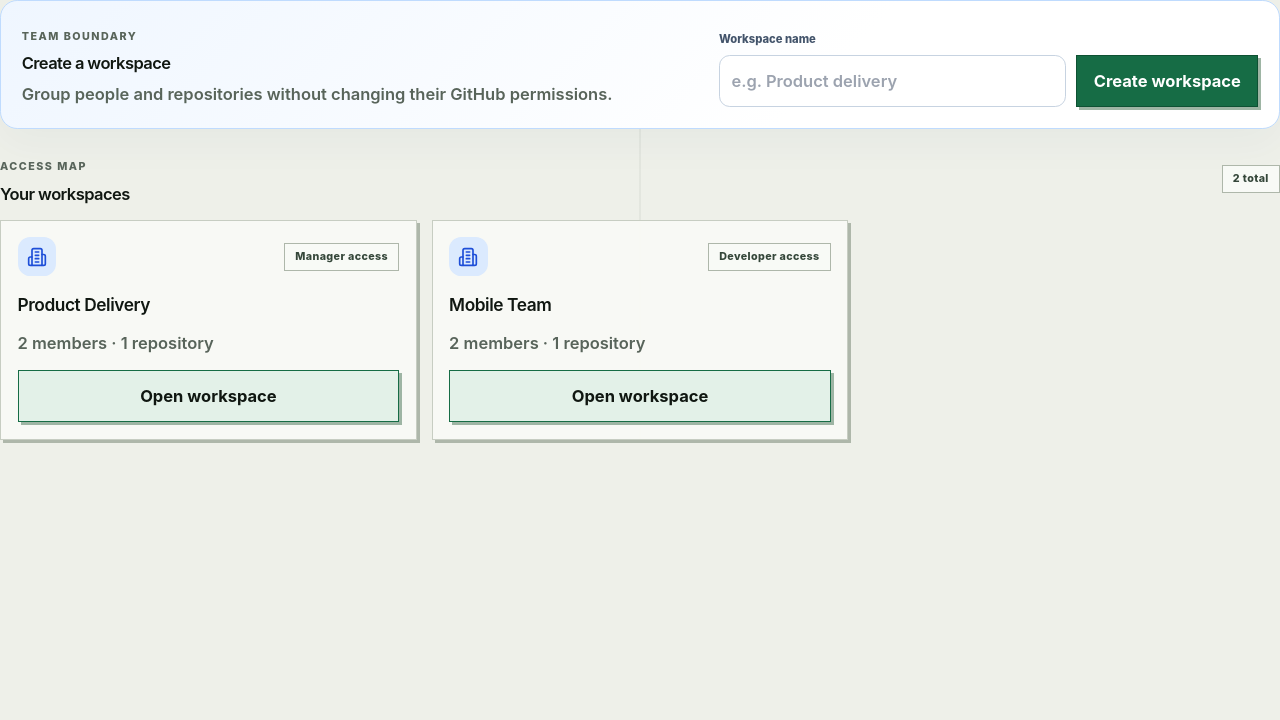
Test: workspace experience › keeps developer workspaces read-only
This screenshot has width=1280, height=720.
Step 1. Click the button with aria-label "Open Mobile Team" → (640, 396), box x1=449 y1=370 x2=831 y2=422
(page scrolled)
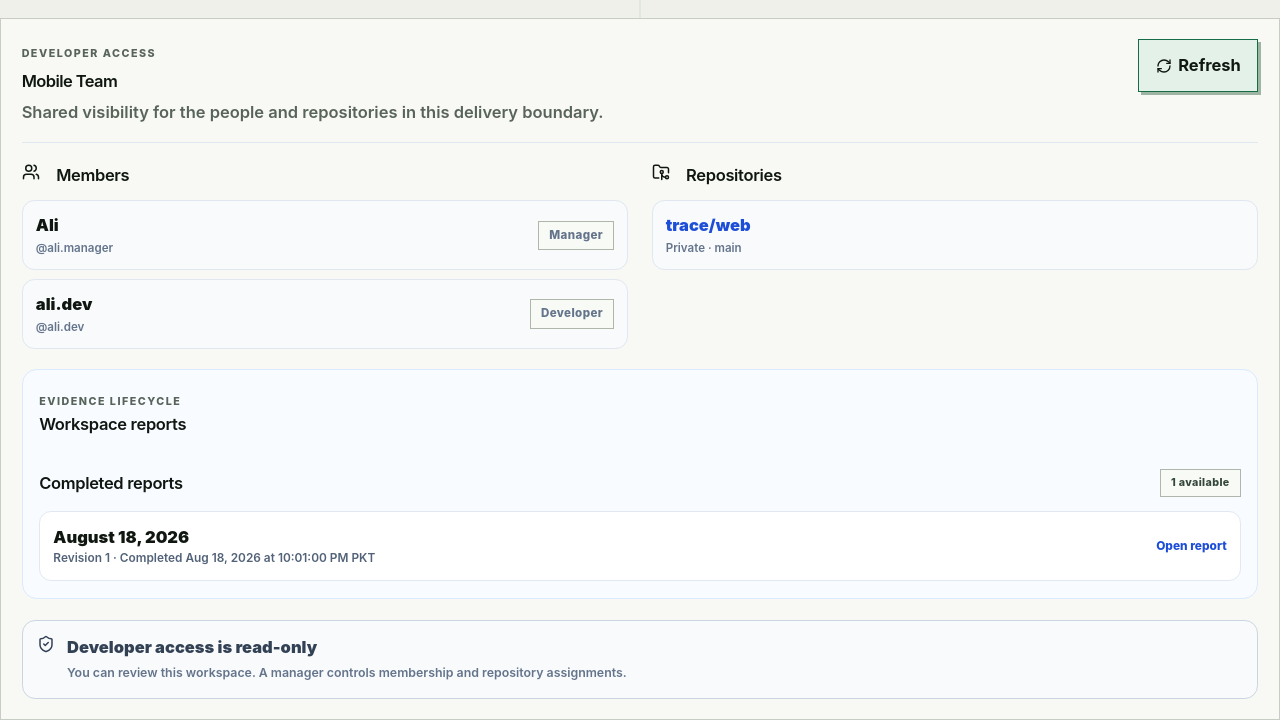
expect the text "Developer access is read-only" is shown: met, box x1=67 y1=638 x2=317 y2=658
